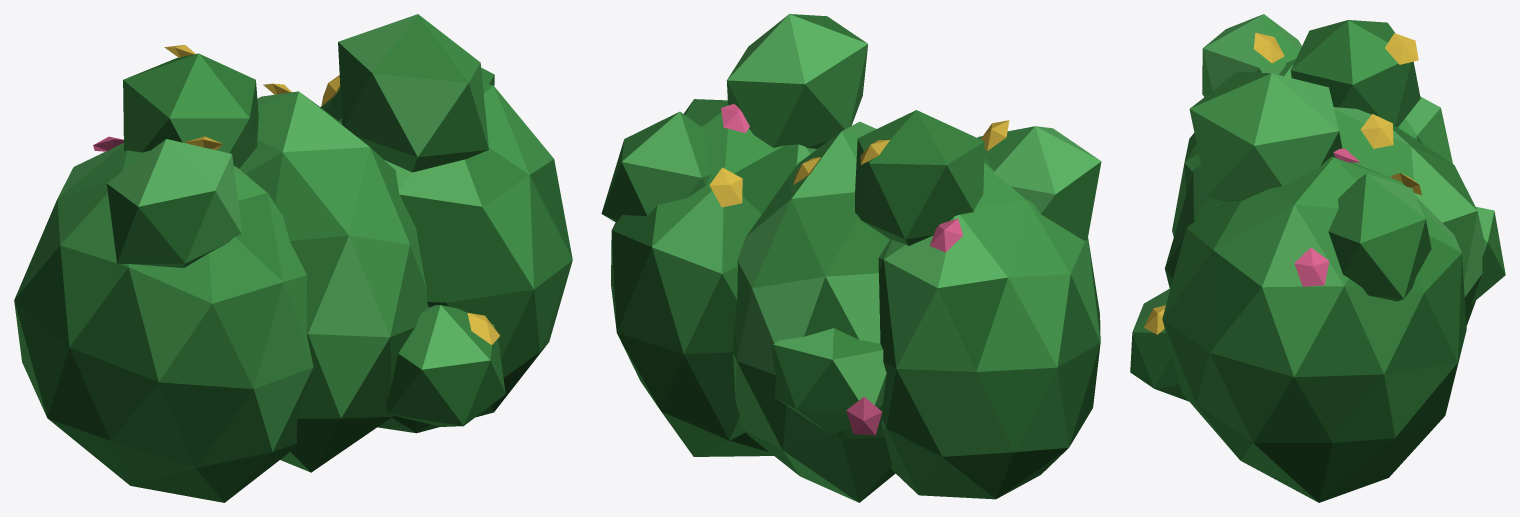
The model's file is mine-bush-2.glb.
The picture shows the model from 3 angles, left to right: view 1: azimuth 30°, elevation 25°; view 2: azimuth 150°, elevation 25°; view 3: azimuth 270°, elevation 25°; orthographic projection. The views are drawn at different scales.
Parts seen in each view (by area): view 1: MineBush2; view 2: MineBush2; view 3: MineBush2.
Boxes of the visible parts, x1,y1,x2,y2 form: MineBush2: (14, 14, 572, 502); MineBush2: (601, 14, 1101, 502); MineBush2: (1130, 14, 1505, 502).
Size of the model in its own units: 2.19 by 1.8 by 1.58.
